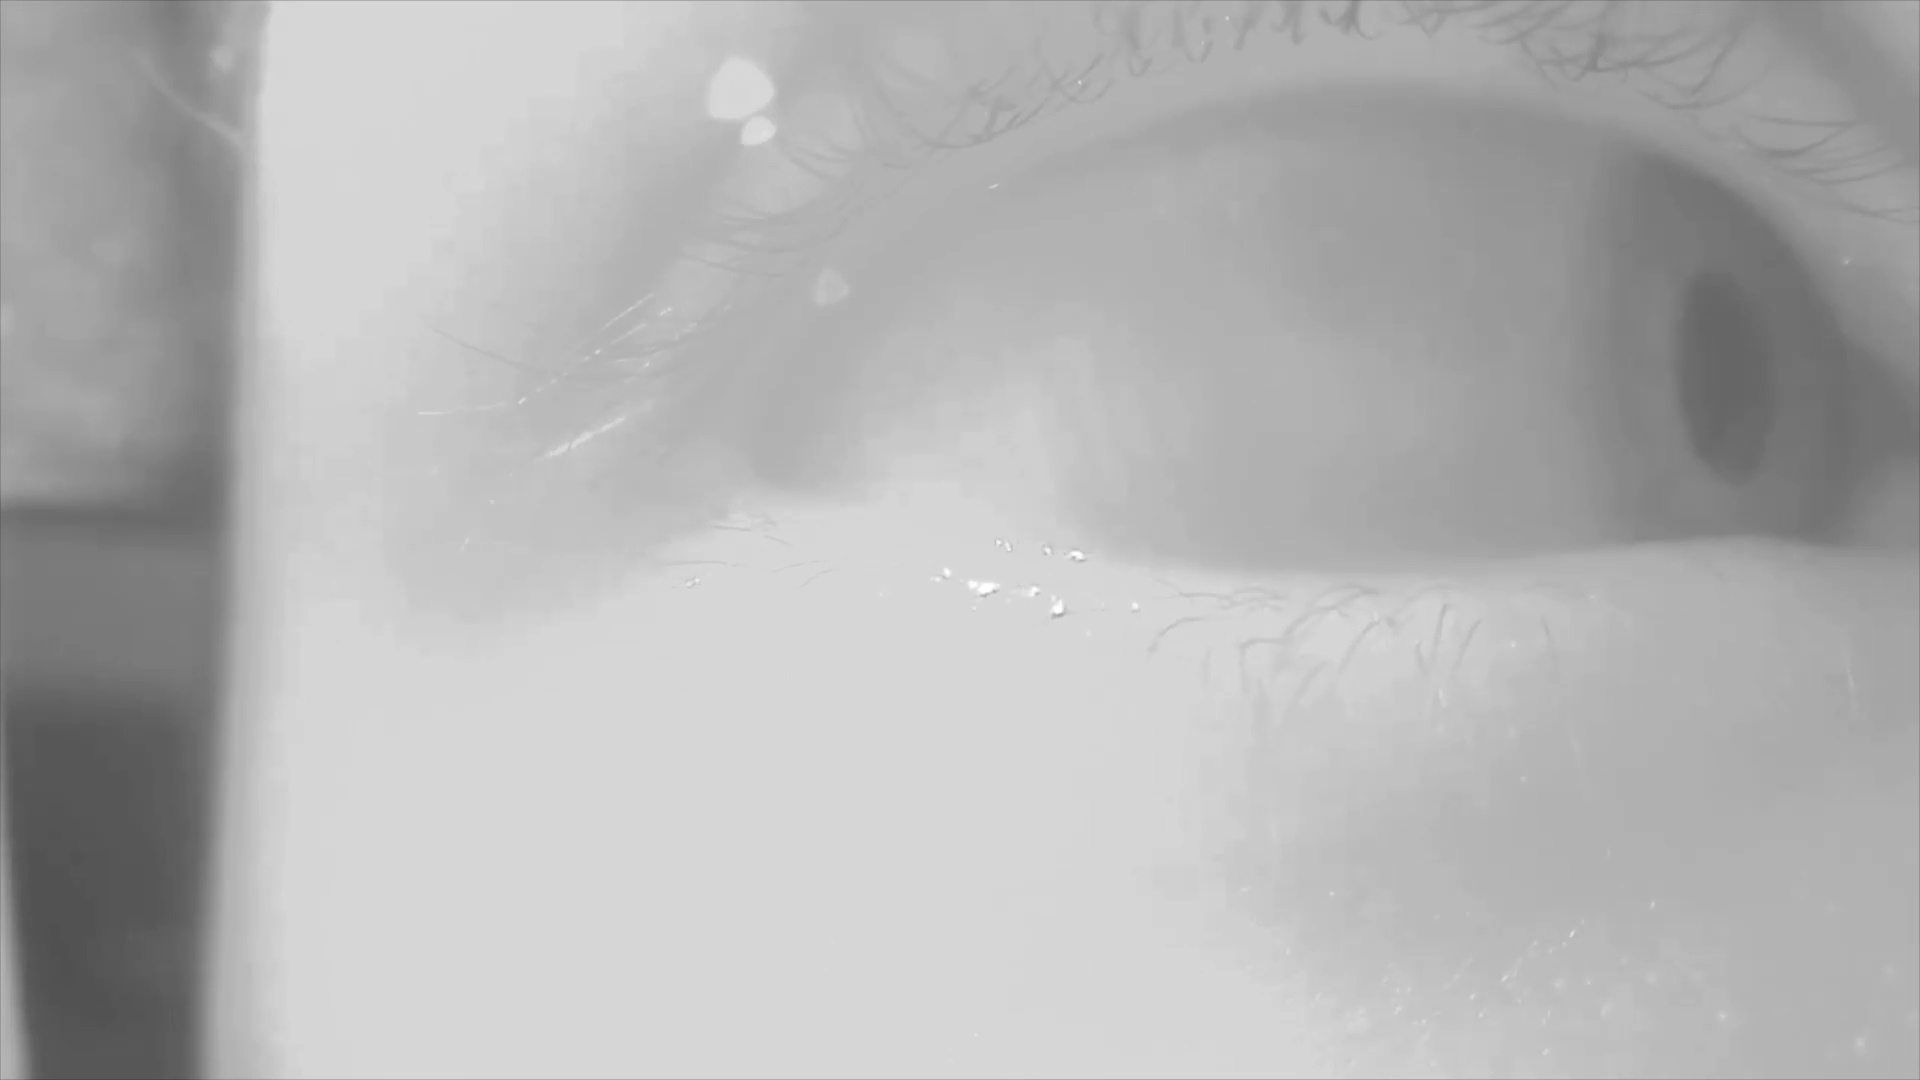pupil: (1674, 271, 1779, 477)
